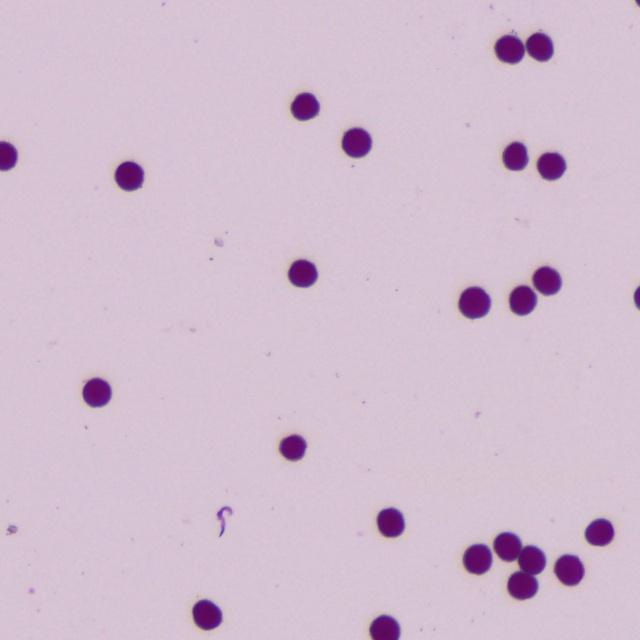viable: (459, 287, 490, 318), (554, 554, 584, 585), (193, 599, 221, 630), (342, 128, 371, 157), (463, 544, 491, 574), (533, 266, 561, 295), (493, 532, 521, 561), (495, 35, 524, 63), (507, 572, 537, 599), (509, 285, 536, 315), (115, 162, 143, 190), (526, 32, 553, 61), (377, 507, 404, 536), (518, 545, 545, 574), (537, 152, 565, 179), (291, 93, 319, 120), (83, 378, 110, 406), (502, 141, 528, 170), (585, 519, 614, 545), (289, 260, 316, 287), (369, 615, 399, 639), (279, 434, 306, 460), (0, 141, 17, 170), (634, 286, 639, 308)
